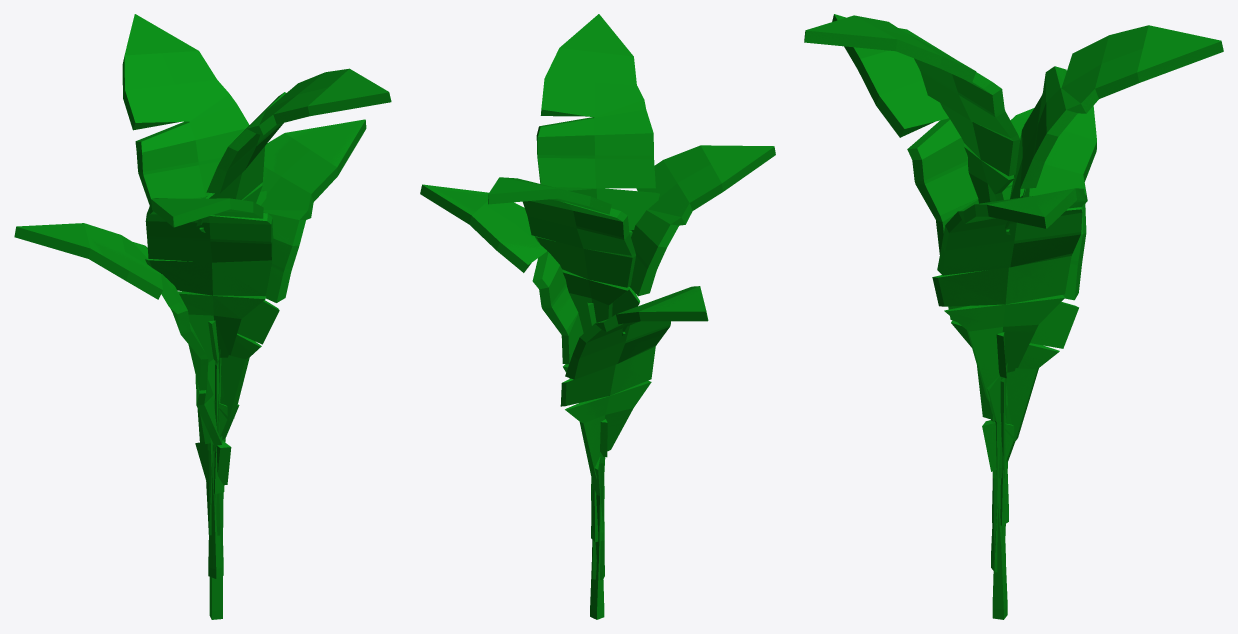
Rendered from Dschungelpflanze_1.fbx.
3 views of the same model, side by side, from view 1: azimuth 30°, elevation 25°; view 2: azimuth 150°, elevation 25°; view 3: azimuth 270°, elevation 25° (orthographic). The views are drawn at different scales.
Parts seen in each view (by area): view 1: Cube, Cube.001; view 2: Cube.001, Cube; view 3: Cube, Cube.001.
Part boxes in pixels (box(x1,y1,x2,y2)): Cube: box(14, 14, 391, 619); Cube.001: box(92, 56, 388, 619); Cube.001: box(420, 14, 775, 619); Cube: box(422, 117, 774, 619); Cube: box(804, 15, 1223, 619); Cube.001: box(805, 14, 1223, 619).
Bounding box in the file's own units: 203 × 333 × 200.
